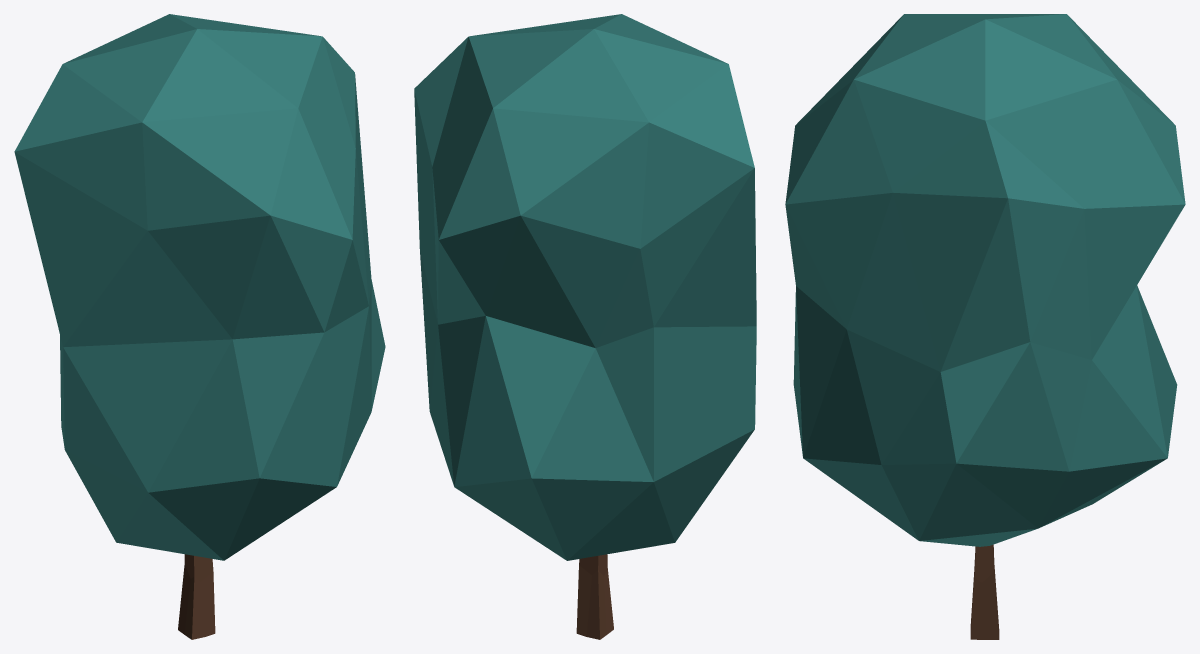
The model's file is Tree_7_Blue.fbx.
3 renders of one model, left to right at view 1: azimuth 30°, elevation 25°; view 2: azimuth 150°, elevation 25°; view 3: azimuth 270°, elevation 25°, orthographic. The views are drawn at different scales.
Parts seen in each view (by area): view 1: Tree_7_Blue_Part_1, Tree_7_Blue_Part_2; view 2: Tree_7_Blue_Part_1, Tree_7_Blue_Part_2; view 3: Tree_7_Blue_Part_1, Tree_7_Blue_Part_2.
Part boxes in pixels (bbox=[...]): Tree_7_Blue_Part_1: bbox=[14, 14, 385, 560]; Tree_7_Blue_Part_2: bbox=[178, 554, 215, 639]; Tree_7_Blue_Part_1: bbox=[414, 14, 756, 560]; Tree_7_Blue_Part_2: bbox=[576, 554, 613, 639]; Tree_7_Blue_Part_1: bbox=[785, 14, 1185, 546]; Tree_7_Blue_Part_2: bbox=[970, 544, 999, 639].
Size of the model in its own units: 478 by 796 by 468.
